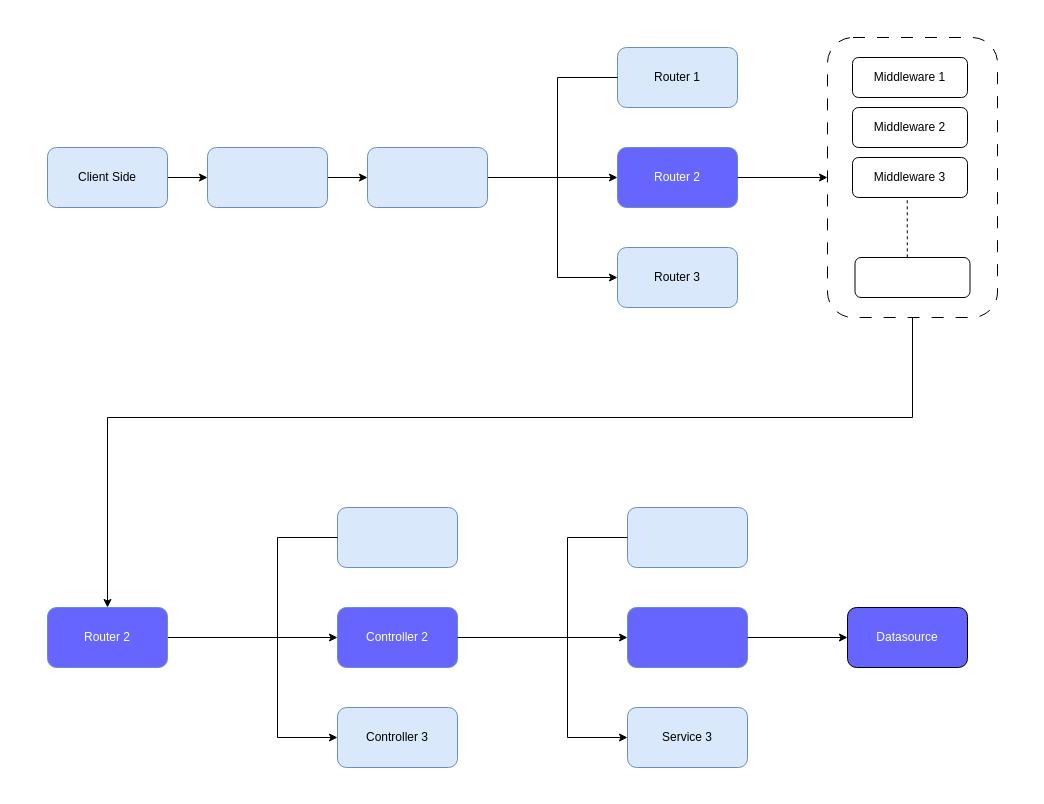
This 1044x804 diagram has some shape labels left out. Here are the shapes that lost their labels. From the top down, the box of each, then its label:
(206, 146, 328, 208): server.go
(366, 146, 488, 208): register route
(854, 256, 970, 298): Middleware N
(336, 506, 458, 568): Controller 1
(626, 506, 748, 568): Service 1
(626, 606, 748, 668): Service 2
